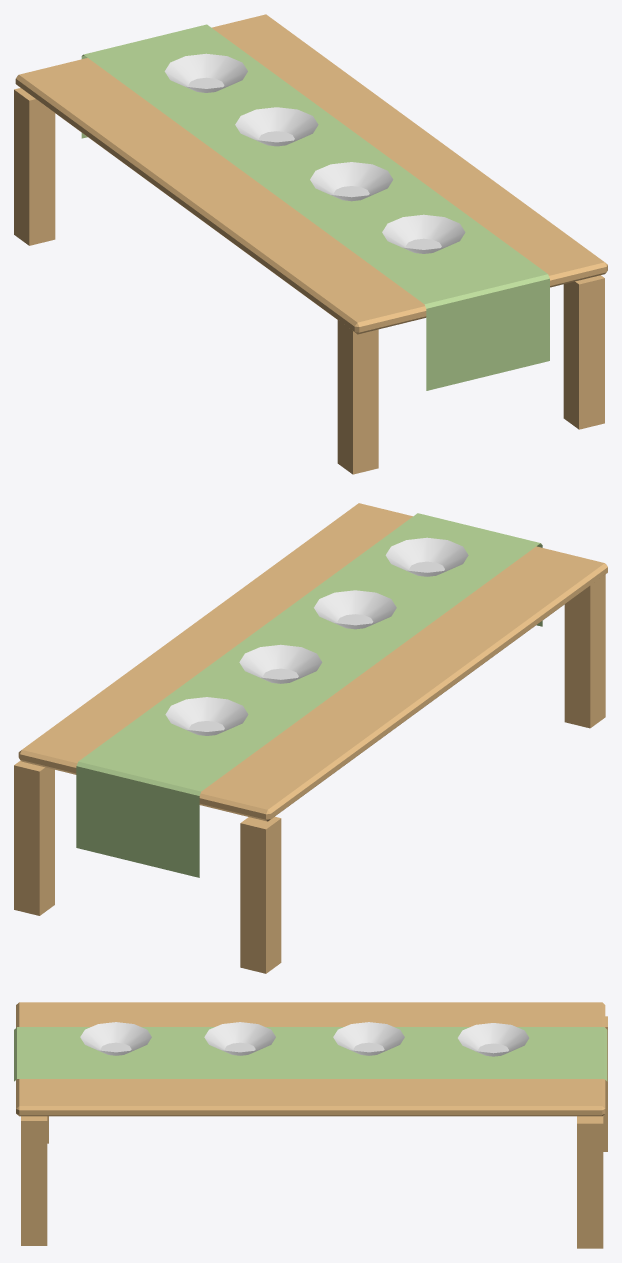
The model's file is dinner_double_01.fbx.
The picture shows the model from 3 angles, top to bottom: view 1: azimuth 30°, elevation 25°; view 2: azimuth 150°, elevation 25°; view 3: azimuth 270°, elevation 25°; orthographic projection. The views are drawn at different scales.
Parts seen in each view (by area): view 1: polySurface41, polySurface43, polySurface42, polySurface45, polySurface44; view 2: polySurface41, polySurface42, polySurface45, polySurface43, polySurface44; view 3: polySurface41, polySurface43, polySurface44, polySurface45, polySurface42.
Part boxes in pixels (bbox=[...]): polySurface41: bbox=[14, 14, 607, 474]; polySurface43: bbox=[235, 107, 318, 146]; polySurface42: bbox=[310, 162, 393, 201]; polySurface45: bbox=[382, 214, 465, 253]; polySurface44: bbox=[164, 53, 247, 92]; polySurface41: bbox=[14, 503, 607, 973]; polySurface42: bbox=[314, 590, 396, 629]; polySurface45: bbox=[385, 537, 468, 576]; polySurface43: bbox=[239, 644, 322, 683]; polySurface44: bbox=[165, 697, 248, 735]; polySurface41: bbox=[14, 1002, 607, 1248]; polySurface43: bbox=[333, 1022, 404, 1055]; polySurface44: bbox=[458, 1023, 529, 1056]; polySurface45: bbox=[80, 1022, 151, 1055]; polySurface42: bbox=[204, 1022, 275, 1055].
Size of the model in its own units: 7.28 by 4.9 by 16.89.
